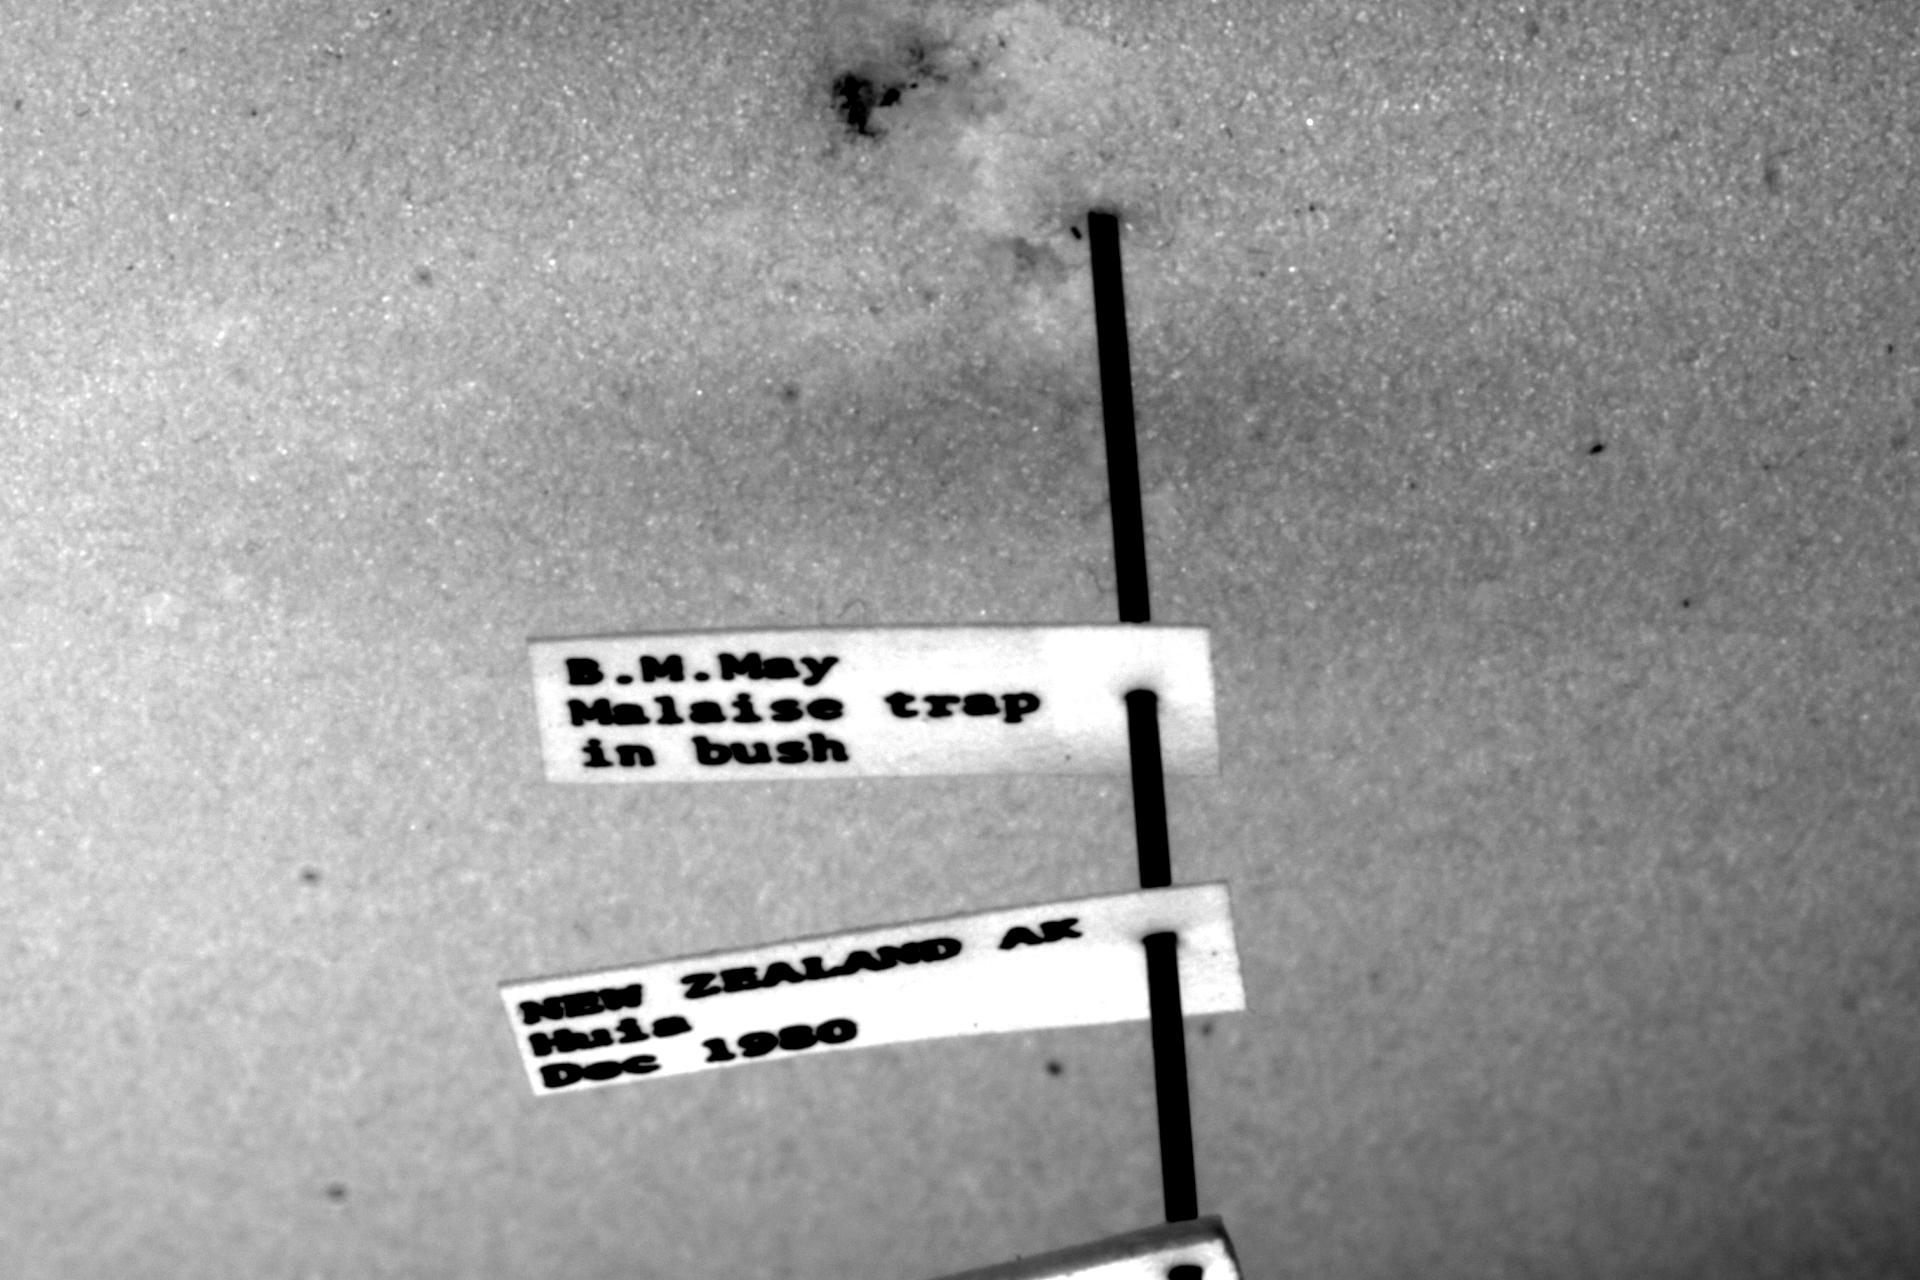typed_label: (503, 881, 1246, 1091), (529, 623, 1219, 784)
